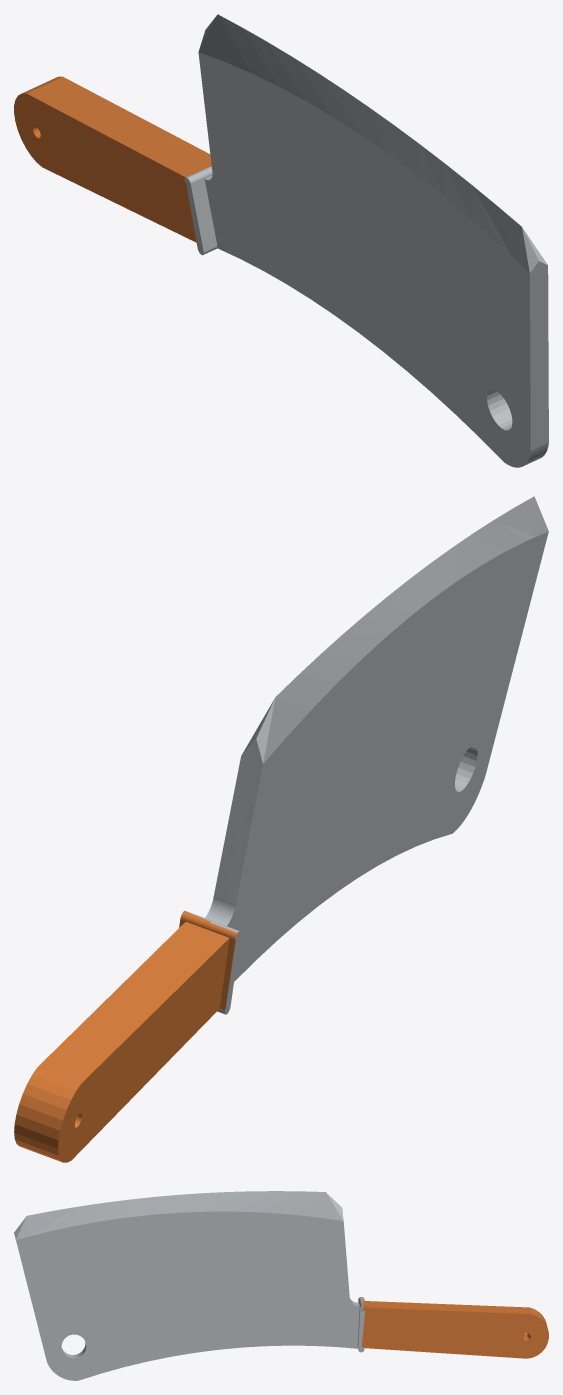
3 views of the same model, one above another, from view 1: azimuth 30°, elevation 25°; view 2: azimuth 150°, elevation 25°; view 3: azimuth 270°, elevation 25° (orthographic). The views are drawn at different scales.
Visible parts, largest first — view 1: world; view 2: world; view 3: world.
Part boxes in pixels (x1,y1,x2,y2): world: (14, 14, 548, 467); world: (14, 496, 548, 1162); world: (14, 1191, 548, 1380).
Size of the model in its own units: 0.0233 by 0.0739 by 0.2099.
